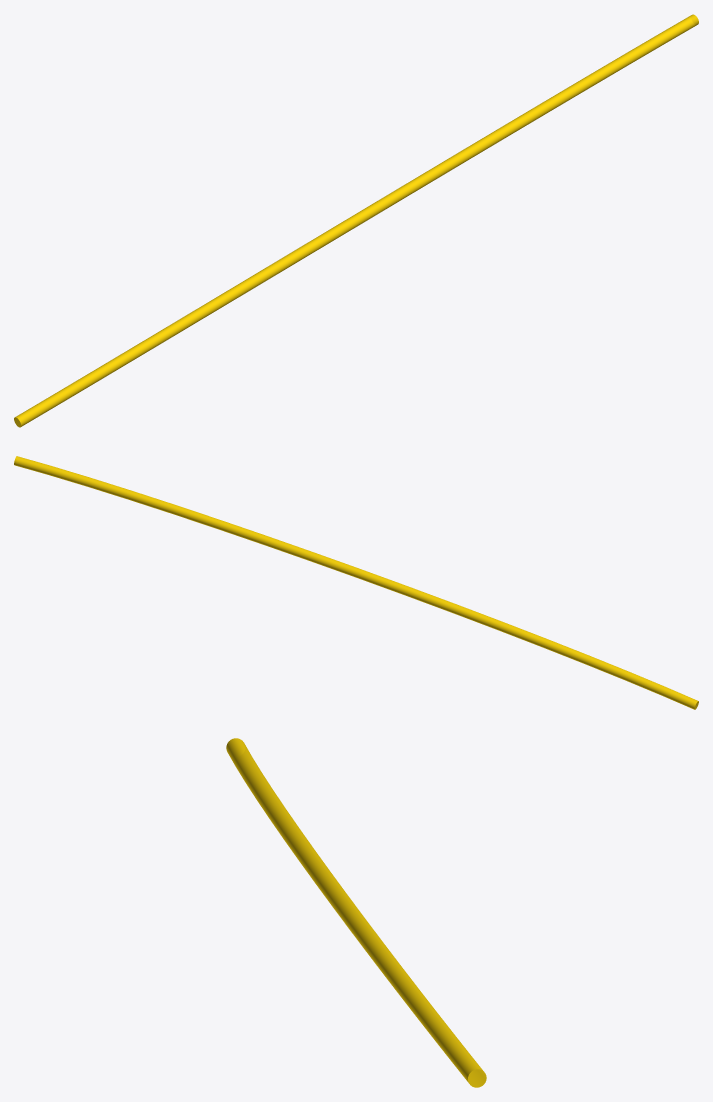
Rendered from Event_420107950_track_74.fbx.
3 renders of one model, top to bottom at view 1: azimuth 30°, elevation 25°; view 2: azimuth 150°, elevation 25°; view 3: azimuth 270°, elevation 25°, orthographic. The views are drawn at different scales.
Visible parts, largest first — view 1: Model; view 2: Model; view 3: Model.
Boxes of the visible parts, x1,y1,x2,y2 form: Model: (14, 14, 698, 427); Model: (14, 456, 698, 709); Model: (226, 738, 486, 1087).
Size of the model in its own units: 2.99 by 0.6705 by 0.5416.
